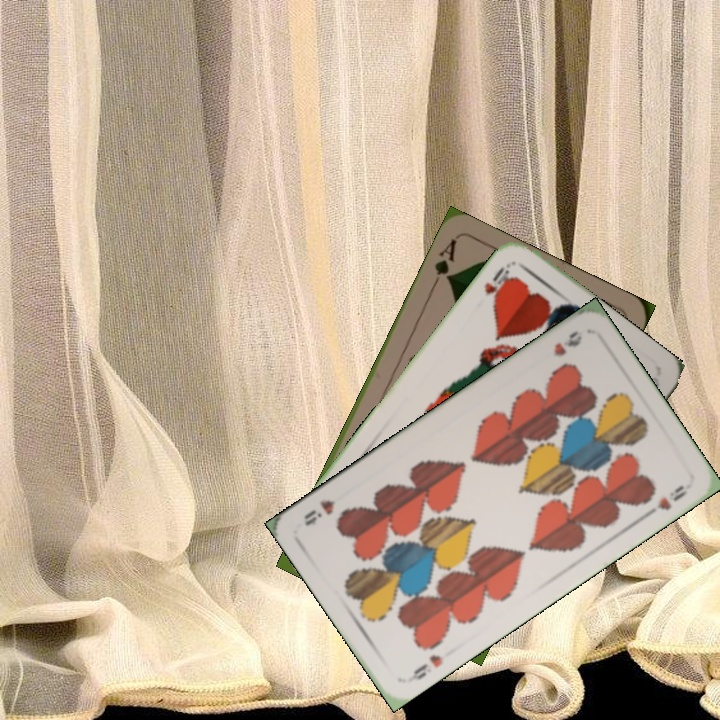GA: (428, 235, 460, 291)
H9: (403, 650, 446, 685), (549, 326, 585, 359)
HO: (480, 260, 518, 306)
